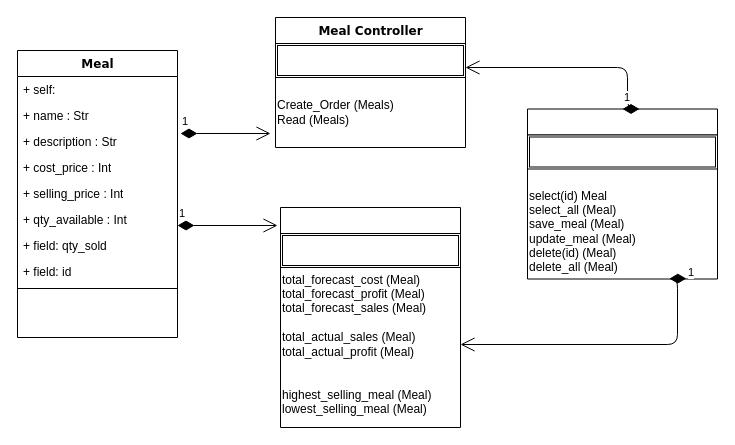
This 735x445 diagram has some shape labels left out. The box of each missing label's shape, as (x1, y1, x2, y2) in pixels:
Manager Controller: (280, 206, 460, 428)
Meal Repository: (526, 108, 718, 279)
